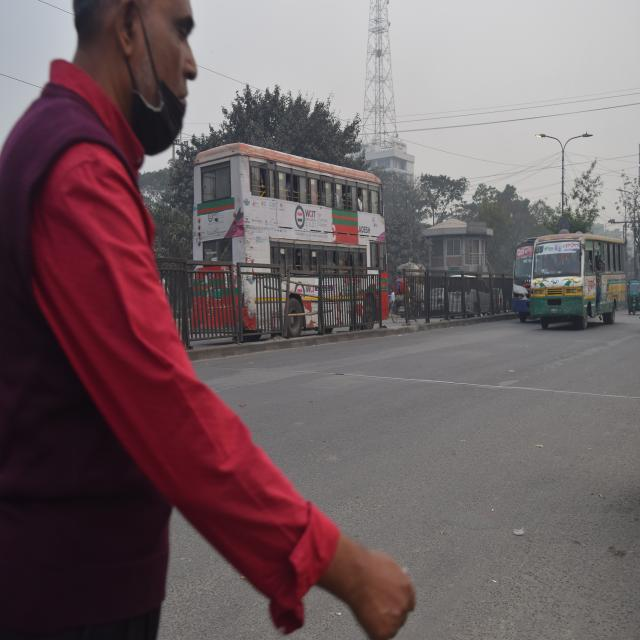bus: (184, 137, 391, 341), (529, 230, 632, 340), (508, 227, 540, 326)
car: (438, 269, 495, 321)
